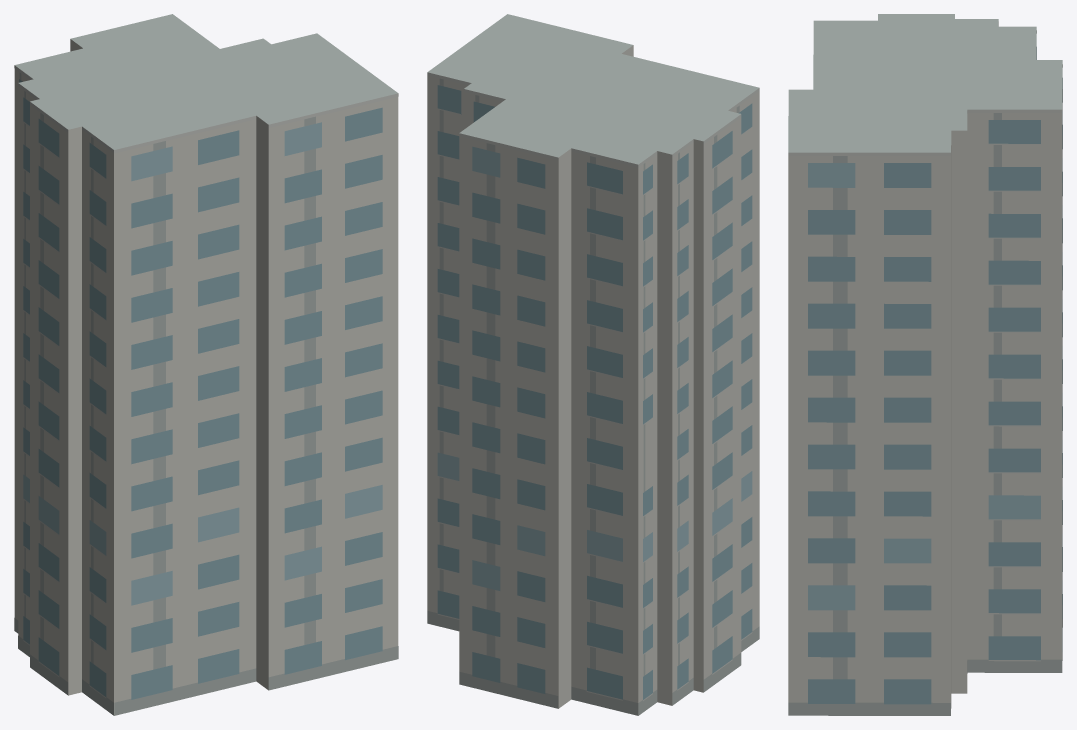
Rendered from residential-b1feef56-7176-40b3-8085-a5bc7bc2c3d1.glb.
The picture shows the model from 3 angles, left to right: view 1: azimuth 30°, elevation 25°; view 2: azimuth 150°, elevation 25°; view 3: azimuth 270°, elevation 25°; orthographic projection. The views are drawn at different scales.
Visible parts, largest first — view 1: residential-b1feef56-7176-40b3-8085-a5bc7bc2c3d1.tmp; view 2: residential-b1feef56-7176-40b3-8085-a5bc7bc2c3d1.tmp; view 3: residential-b1feef56-7176-40b3-8085-a5bc7bc2c3d1.tmp.
Boxes of the visible parts, <box> form: residential-b1feef56-7176-40b3-8085-a5bc7bc2c3d1.tmp: <box>14,14,398,715</box>; residential-b1feef56-7176-40b3-8085-a5bc7bc2c3d1.tmp: <box>427,14,759,715</box>; residential-b1feef56-7176-40b3-8085-a5bc7bc2c3d1.tmp: <box>788,14,1062,715</box>.
Bounding box in the file's own units: 22.2 × 42 × 18.57.
